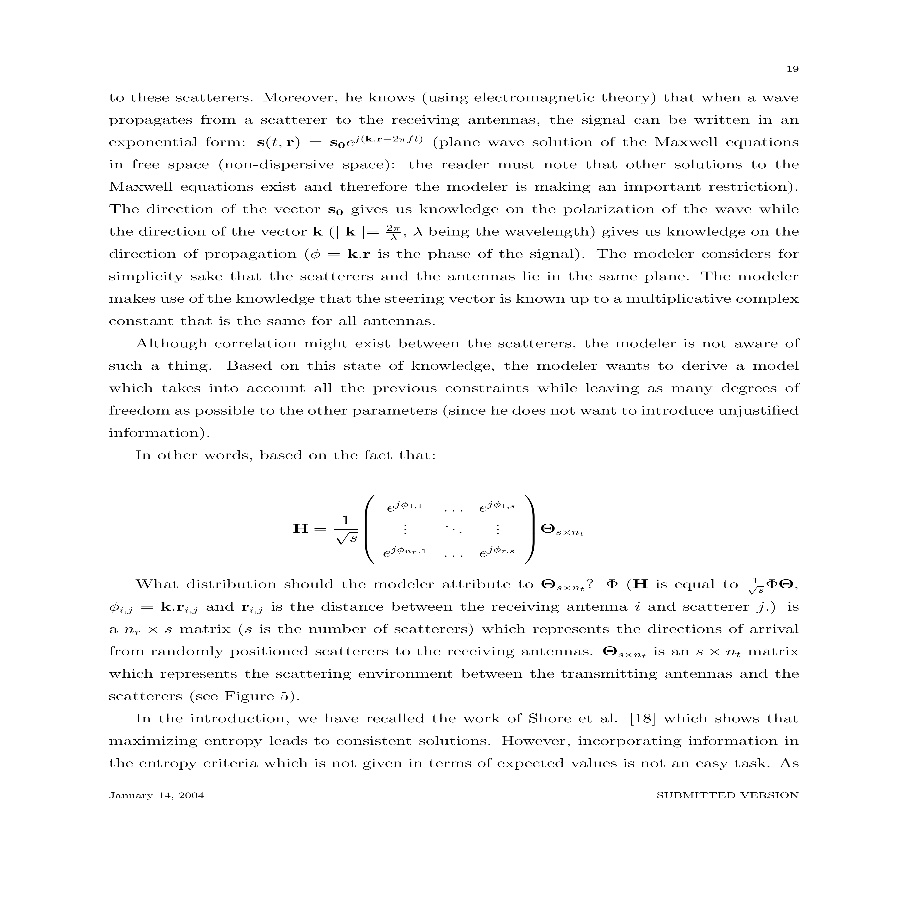eq: (291, 488, 585, 568)
